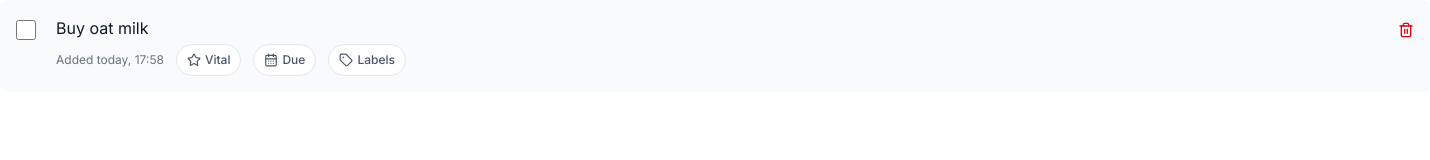
Scenario: taskItem › saves an edit on Enter and puts focus back on the title
The image size is (1430, 160).
Click the button named "Edit \"Buy oat milk\"" at (102, 28), box left=56, top=16, right=1376, bottom=40
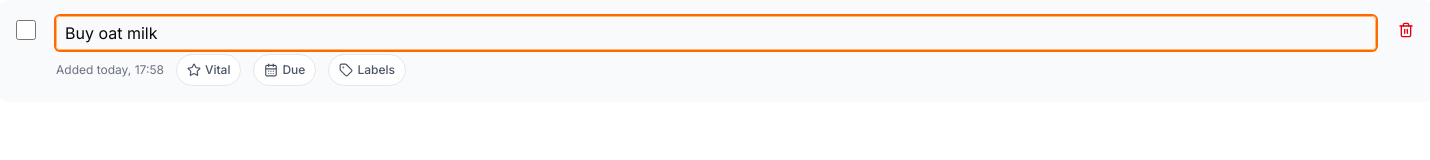
Replace the text in the field named "Edit \"Buy oat milk\"" with "Buy oat milk and bread" at (716, 33), box left=56, top=16, right=1376, bottom=50
Then press Enter
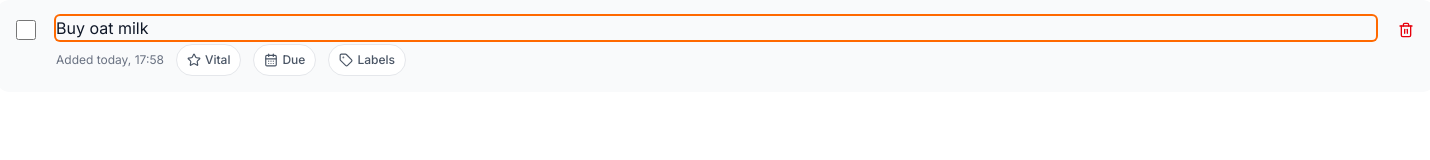
Expected: the field is gone
